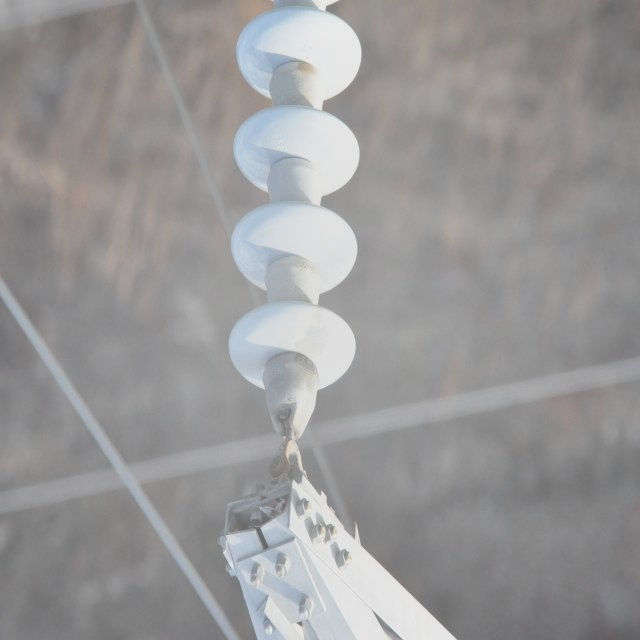insulator: (228, 8, 362, 398)
